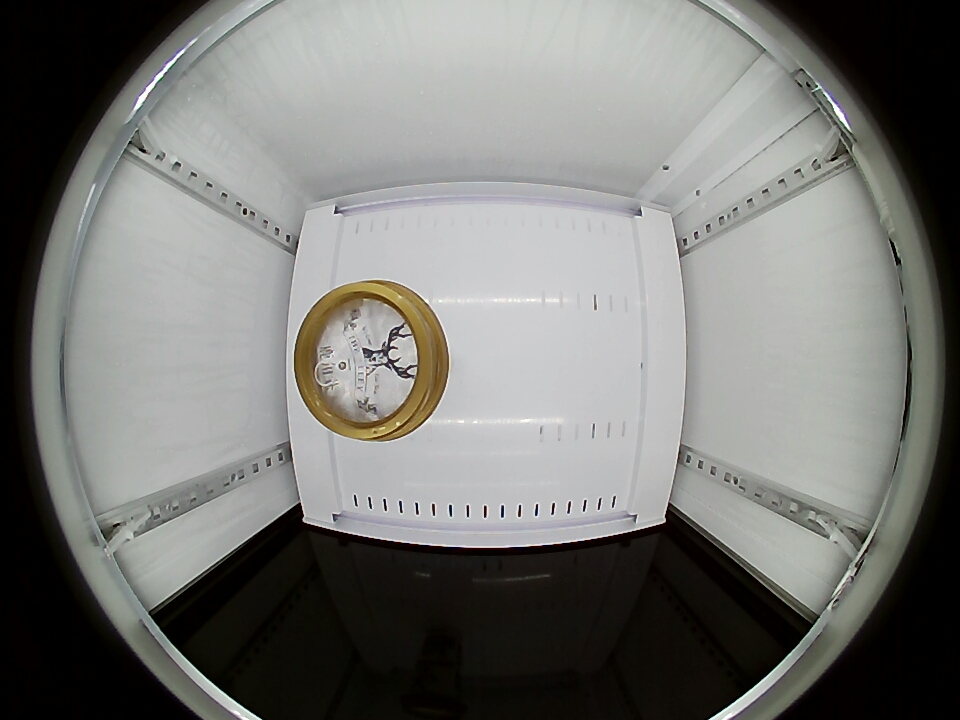lujiaoxiang: (293, 280, 450, 442)
